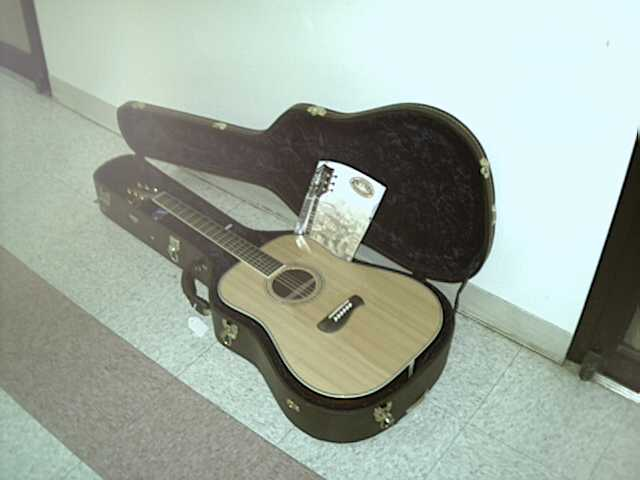guitar: (120, 169, 450, 410)
